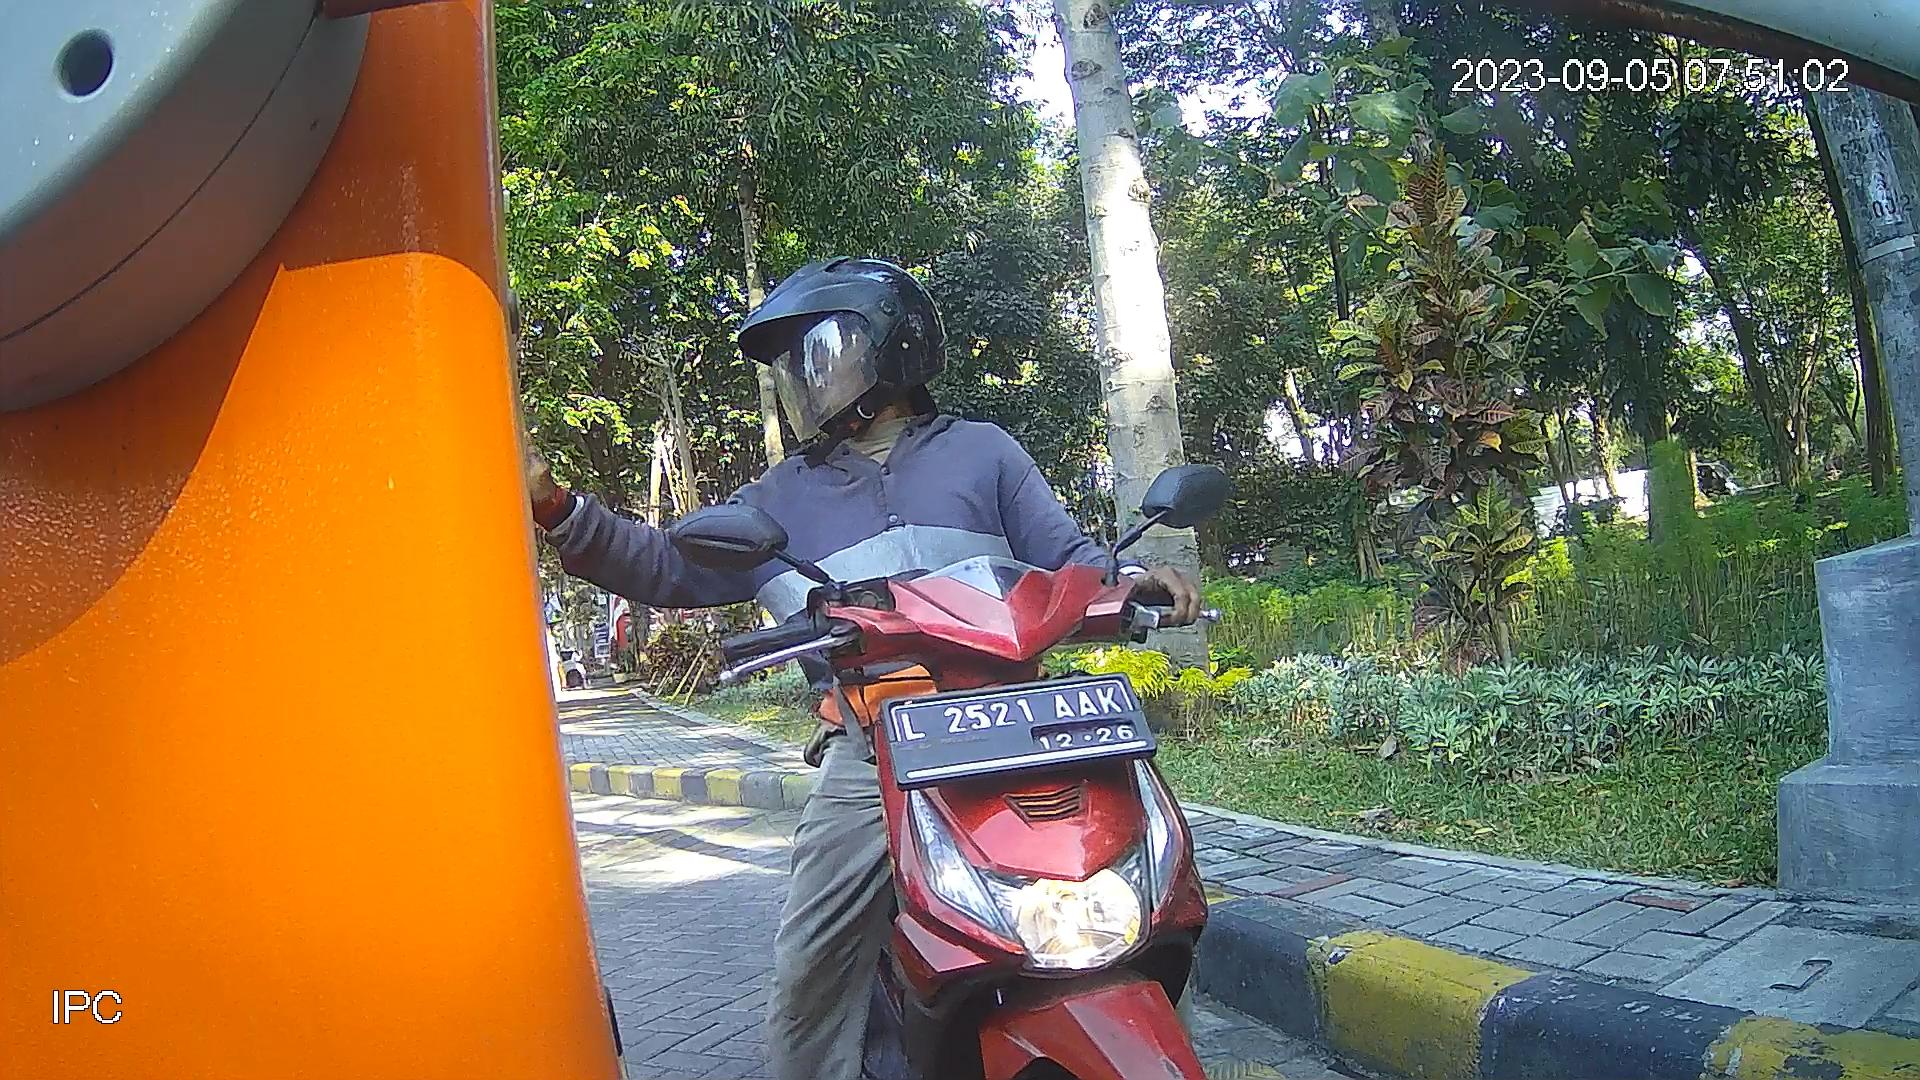plat: (876, 670, 1166, 790)
